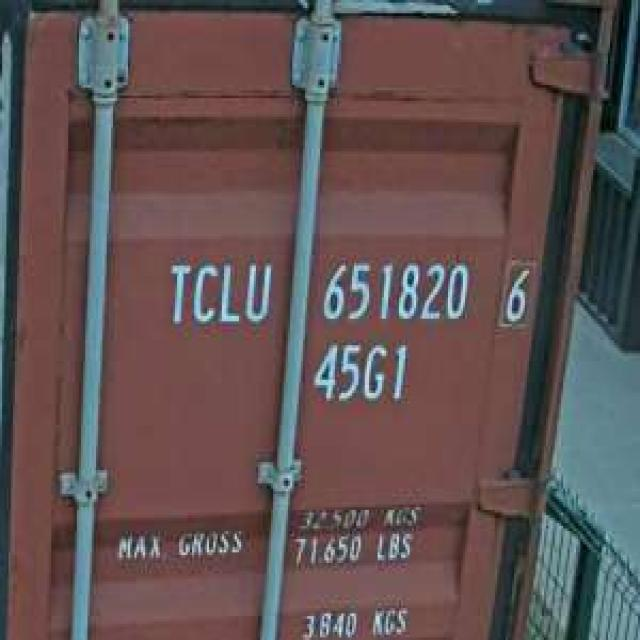dv: (495, 252, 538, 332)
owner: (162, 252, 275, 332)
serial: (316, 252, 474, 330)
size: (307, 335, 412, 409)
